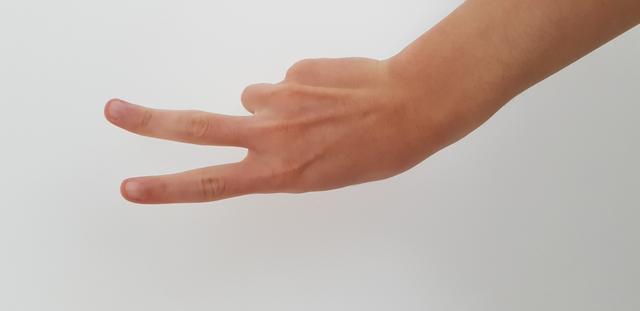Scissors: (65, 36, 443, 221)
